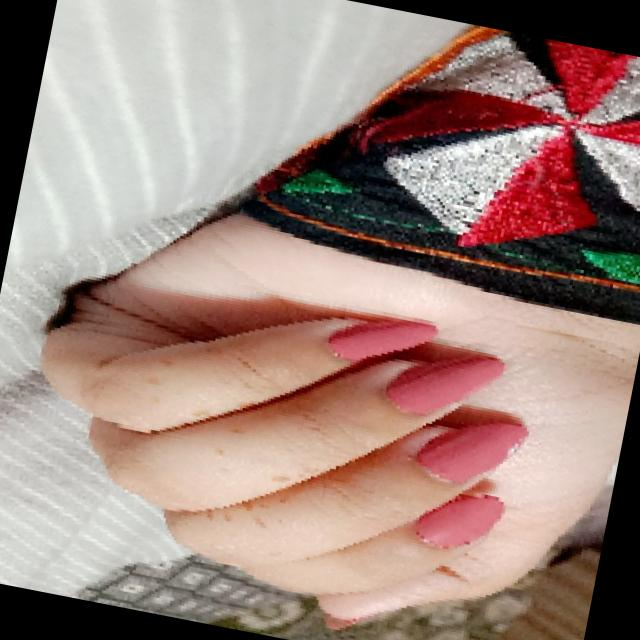Nail: (415, 421, 527, 483), (386, 356, 503, 414), (415, 496, 503, 548), (328, 321, 435, 361)
